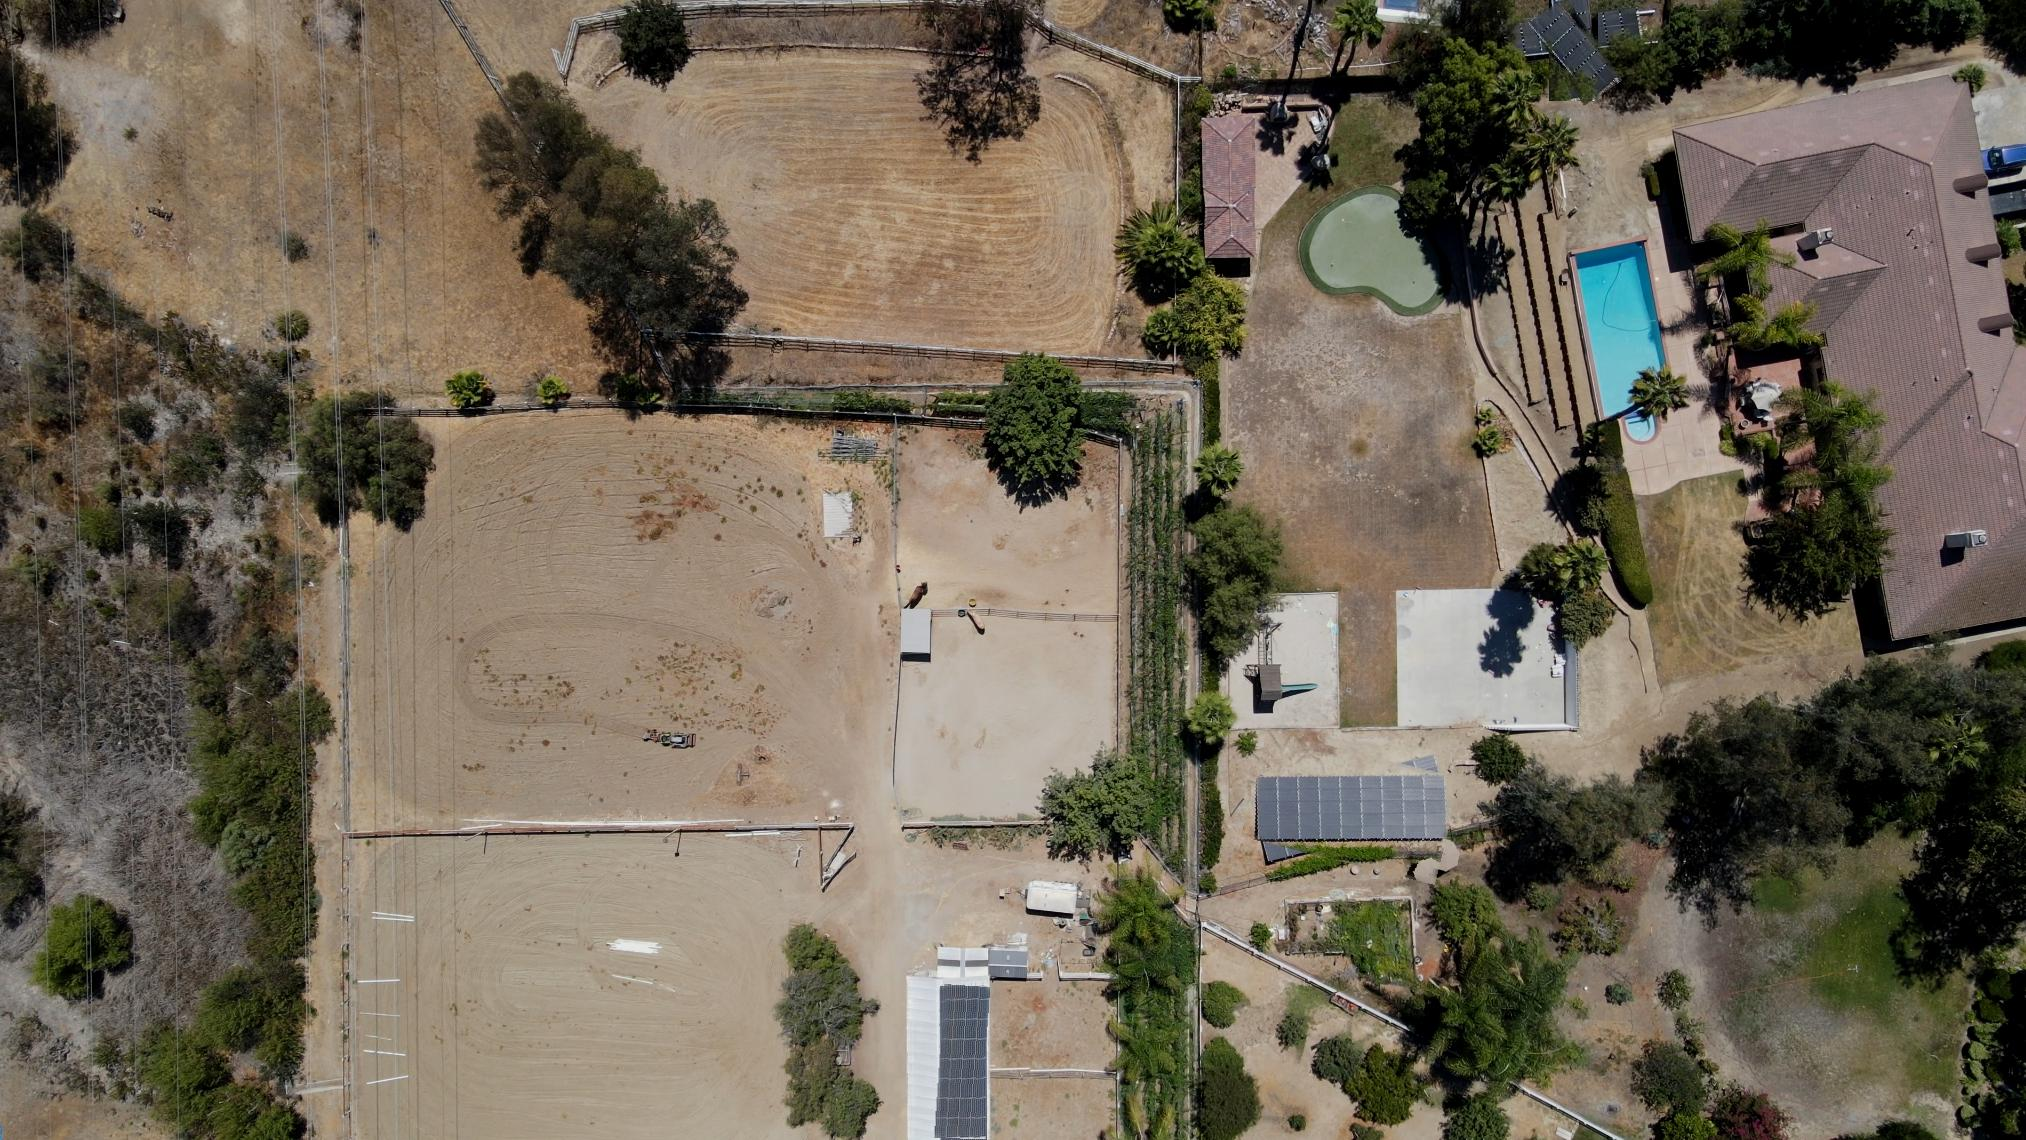solar-panels: (1255, 775, 1447, 842), (1528, 0, 1618, 99), (935, 984, 989, 1139)
